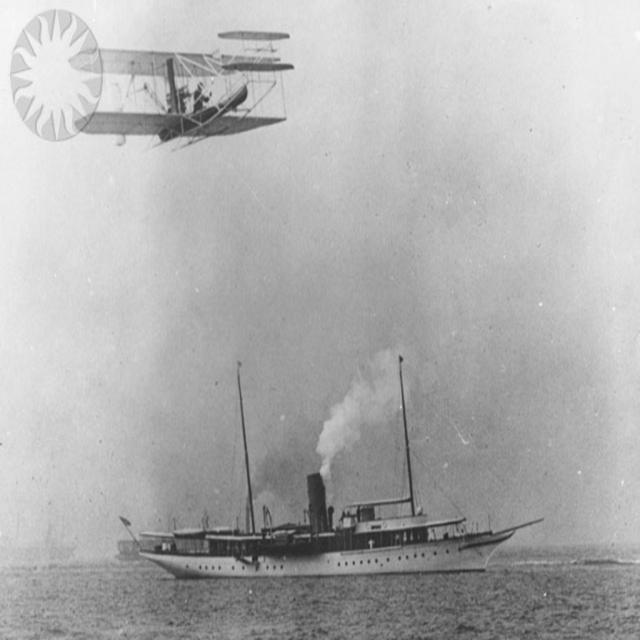Boat: (109, 378, 541, 605)
